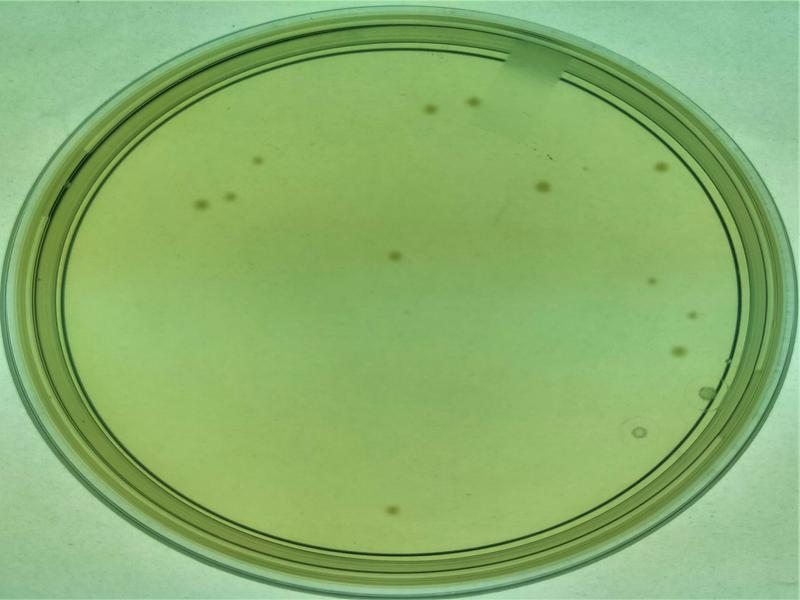colony: (383, 501, 404, 519), (670, 337, 687, 359), (387, 247, 406, 264), (535, 177, 551, 193), (683, 306, 700, 321), (653, 158, 671, 172), (420, 100, 438, 114), (464, 93, 480, 108), (195, 200, 209, 213), (647, 272, 658, 287), (249, 153, 262, 165), (228, 192, 238, 201)
